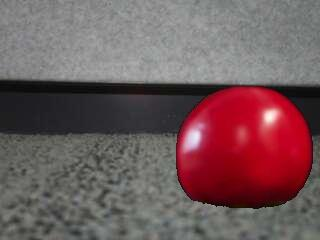Tomato: (173, 85, 313, 208)
